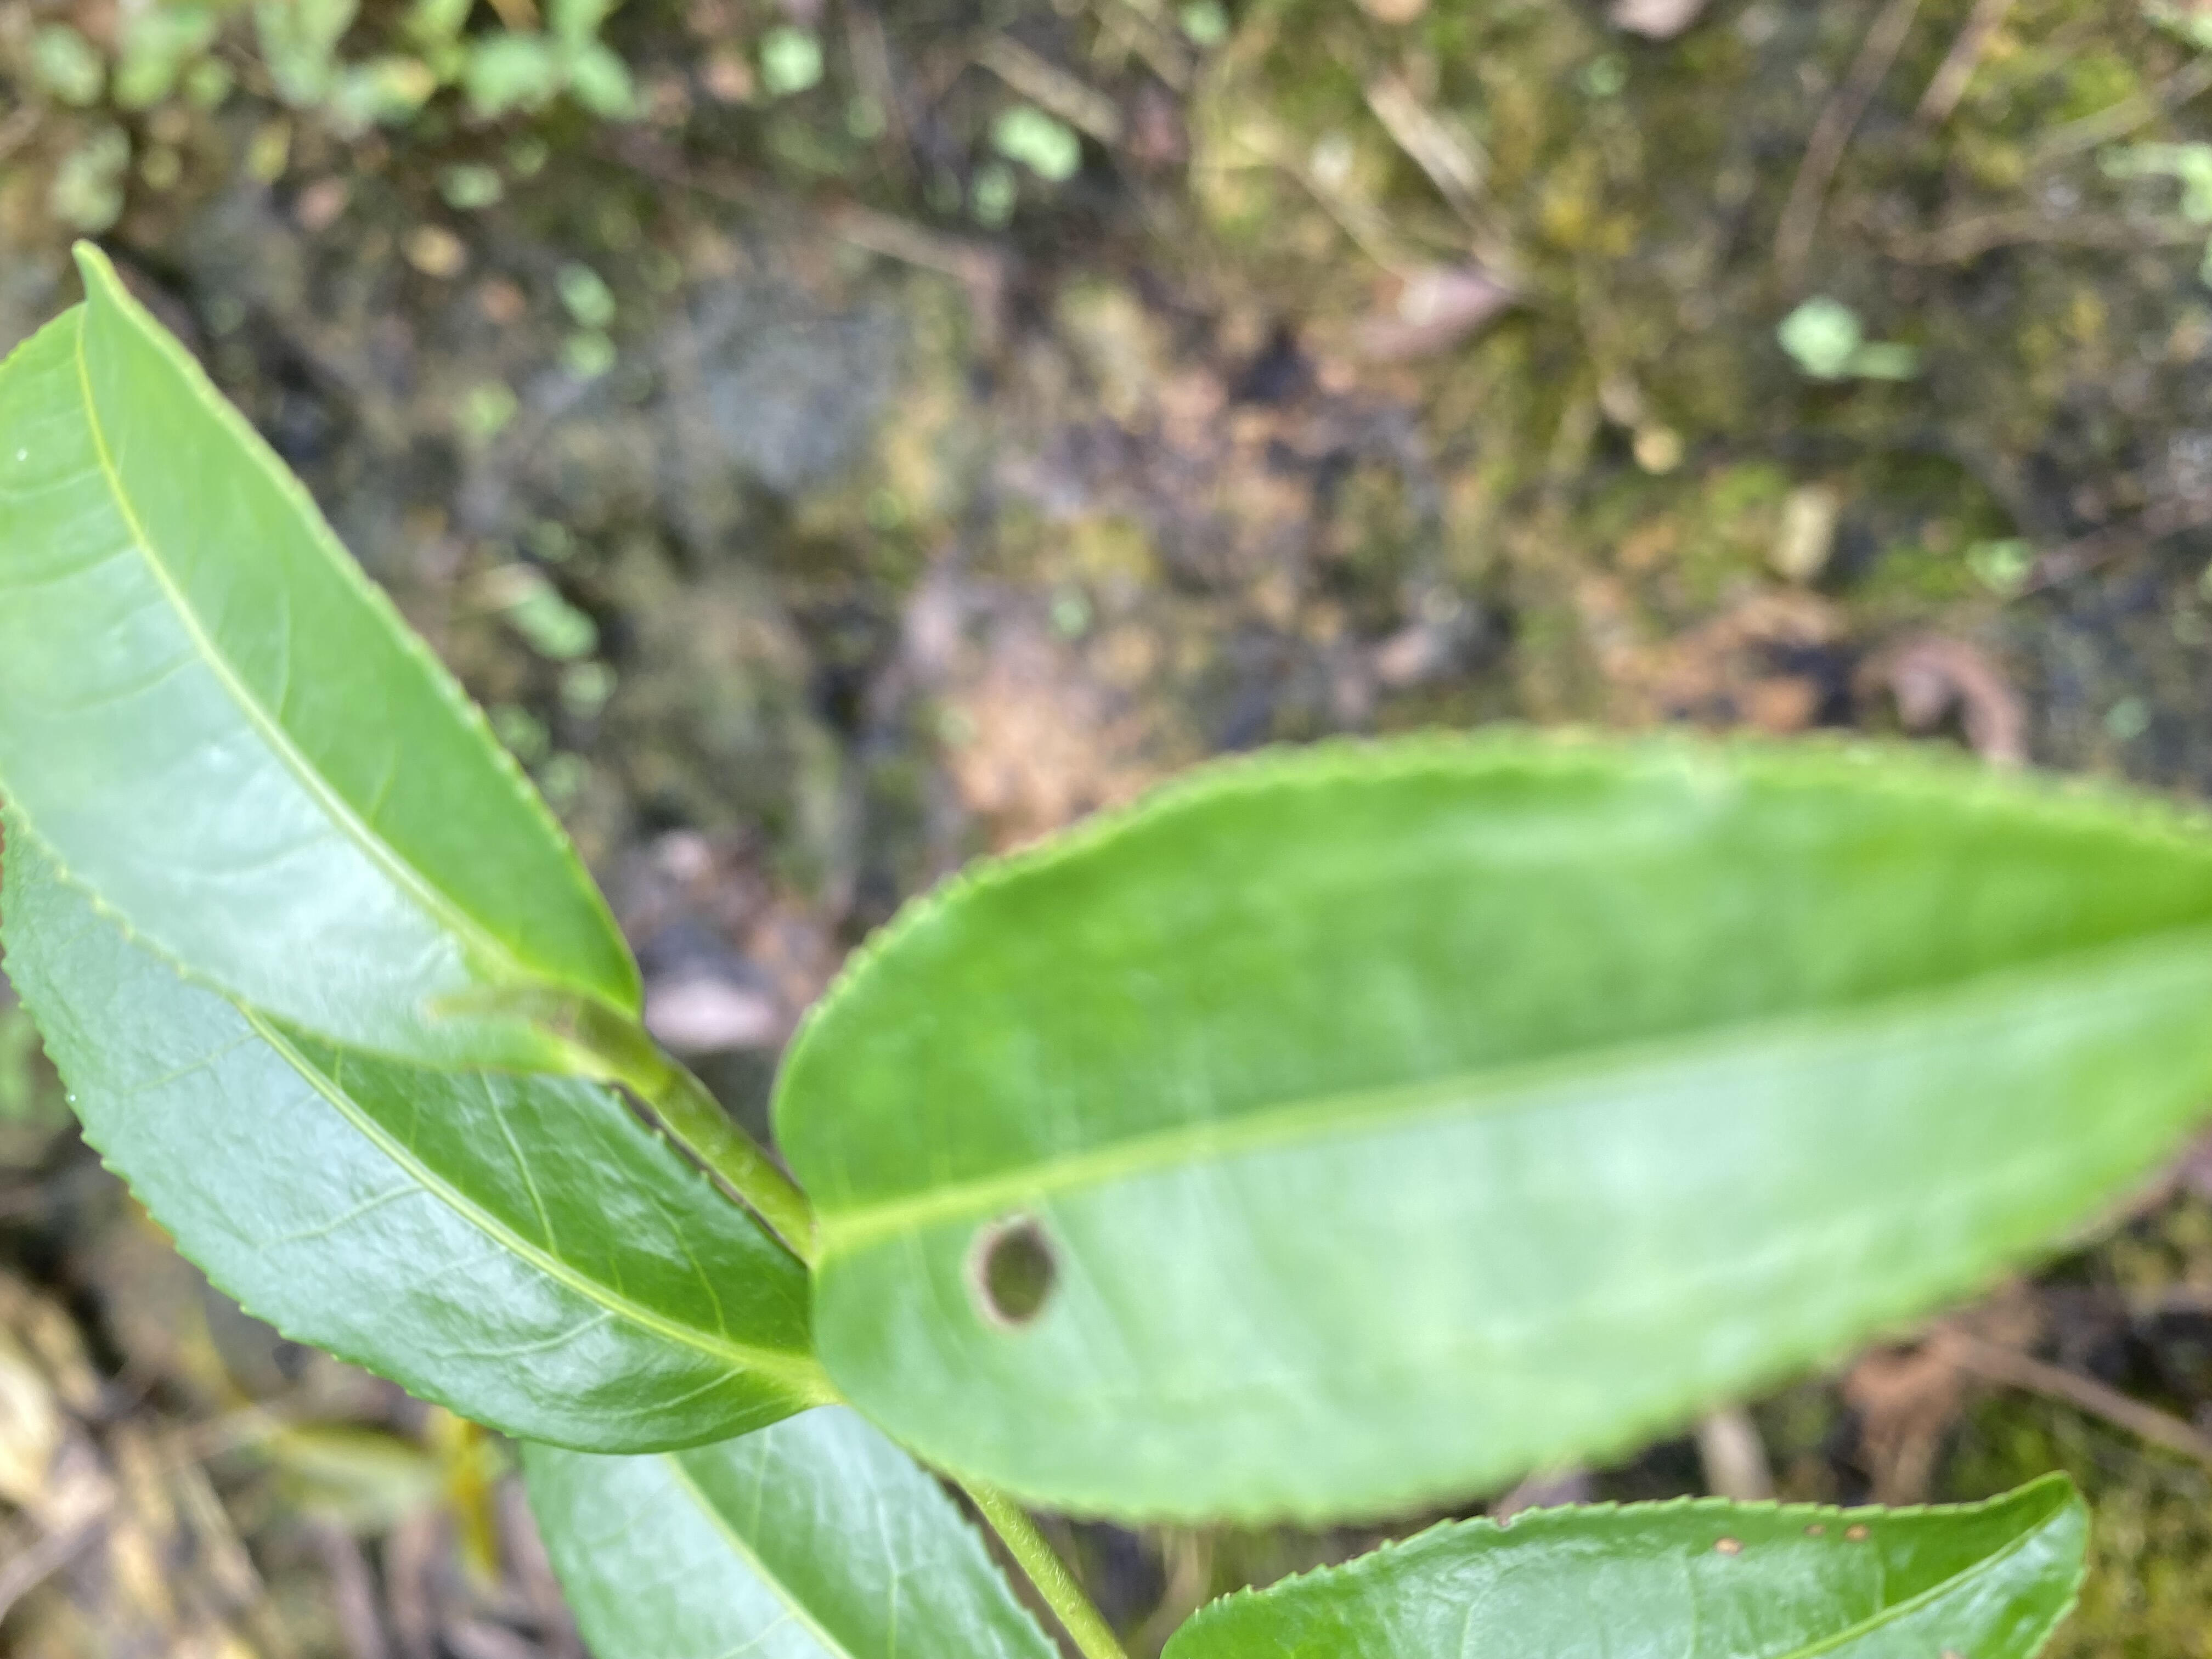chihuo_low: (770, 723, 2212, 1525)
healthy: (3, 240, 648, 1080), (5, 838, 808, 1445), (510, 1405, 1057, 1657)
tanju_low: (1160, 1469, 2094, 1659)
